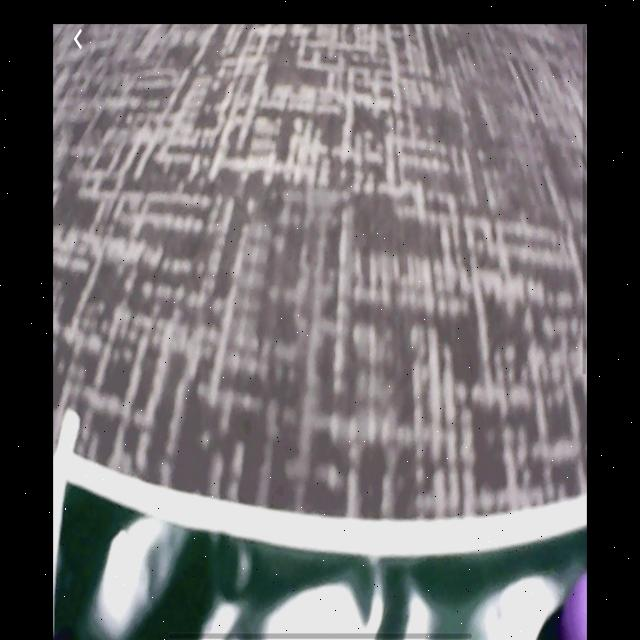ball: (564, 569, 588, 640)
